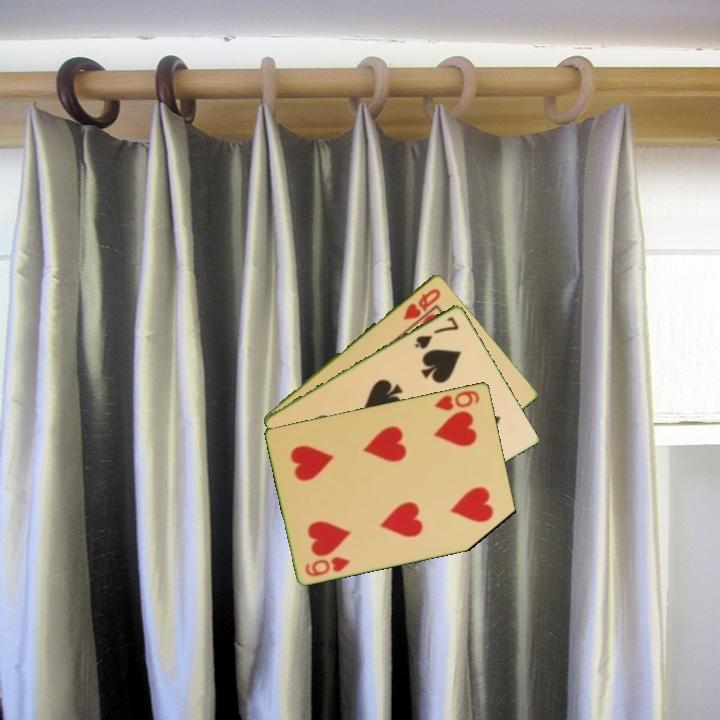6h: (431, 386, 483, 413), (302, 553, 353, 579)
7s: (411, 313, 462, 352)
Qh: (399, 285, 444, 323)
